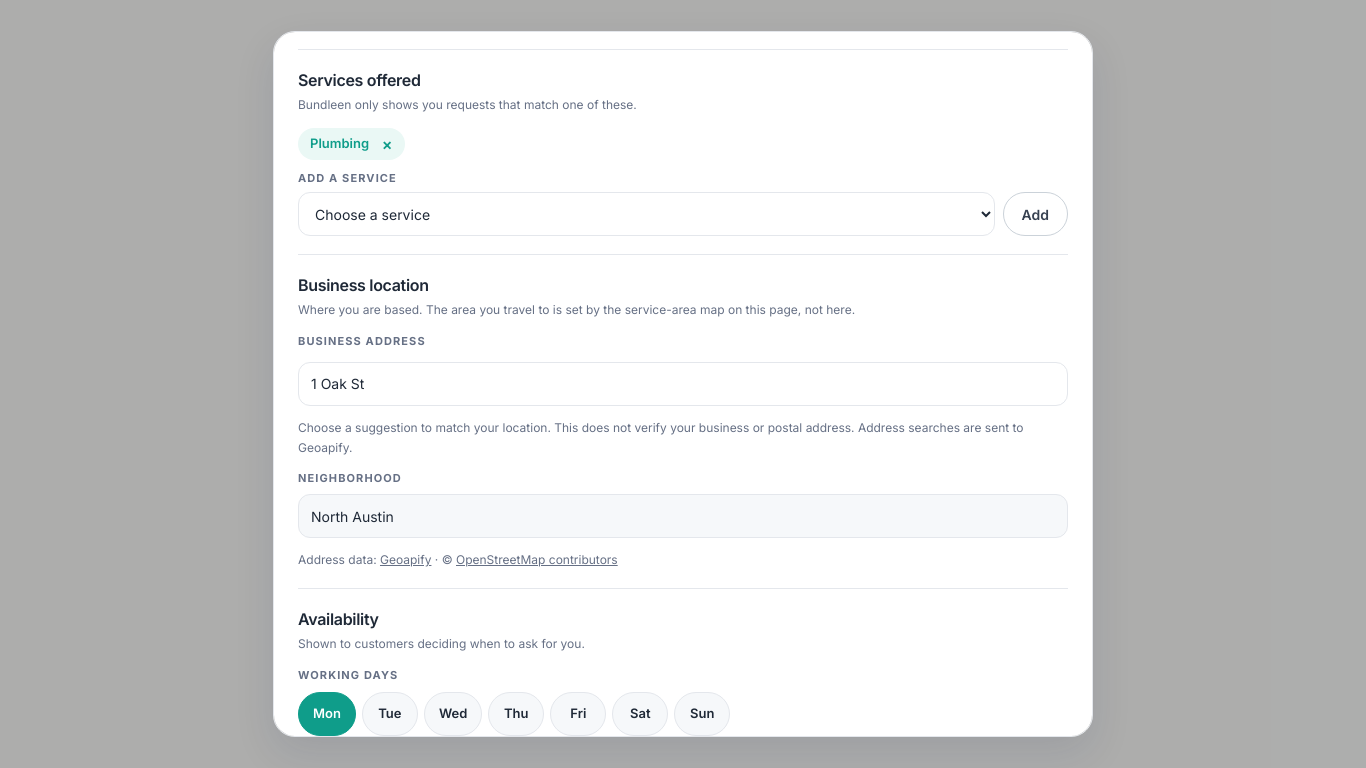
Test: provider selected location safety › ignores a late older response even when transport does not honor cancellation
(page scrolled)
Replace the text in the dropdown labelled "Business address" with "Old address". click: (683,384)
box: left=298, top=362, right=1068, bottom=406
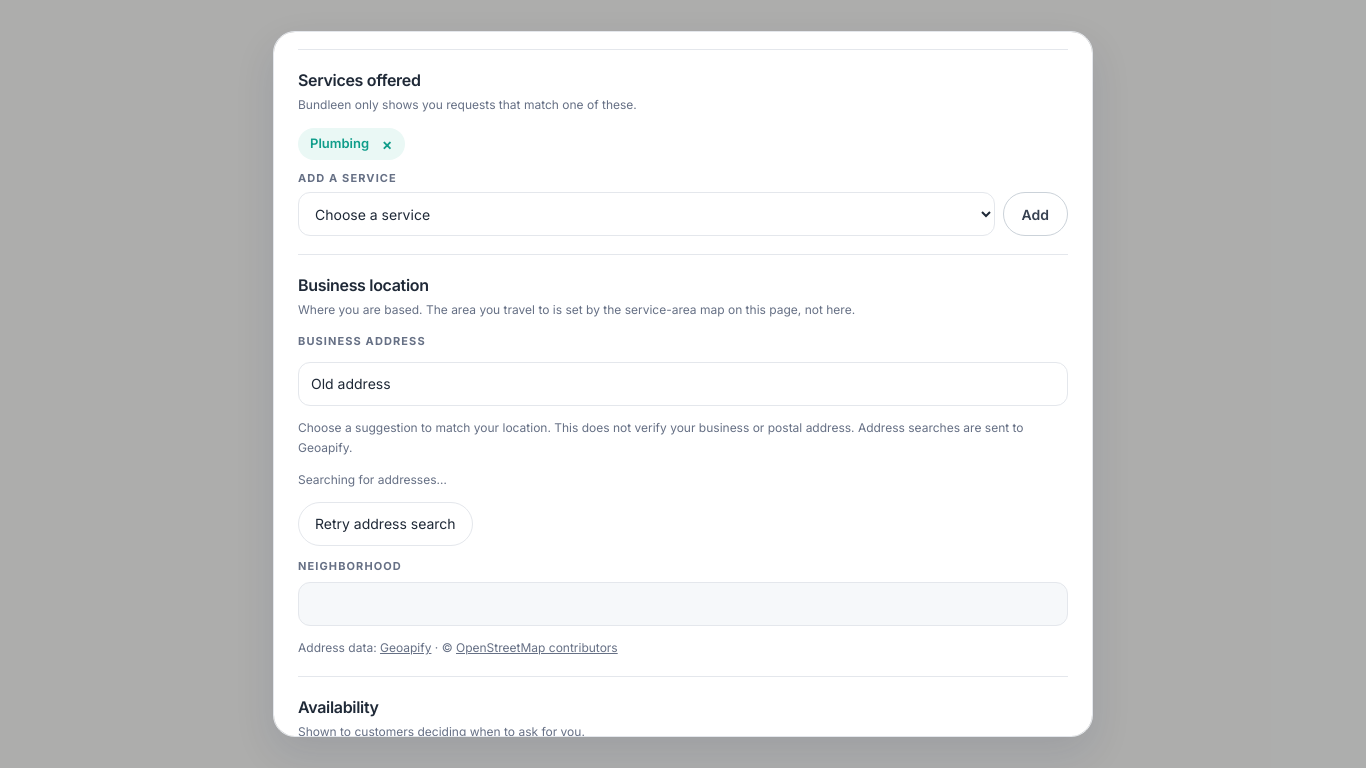
Replace the text in the dropdown labelled "Business address" with "123 Sunset". click: (683,384)
box: left=298, top=362, right=1068, bottom=406
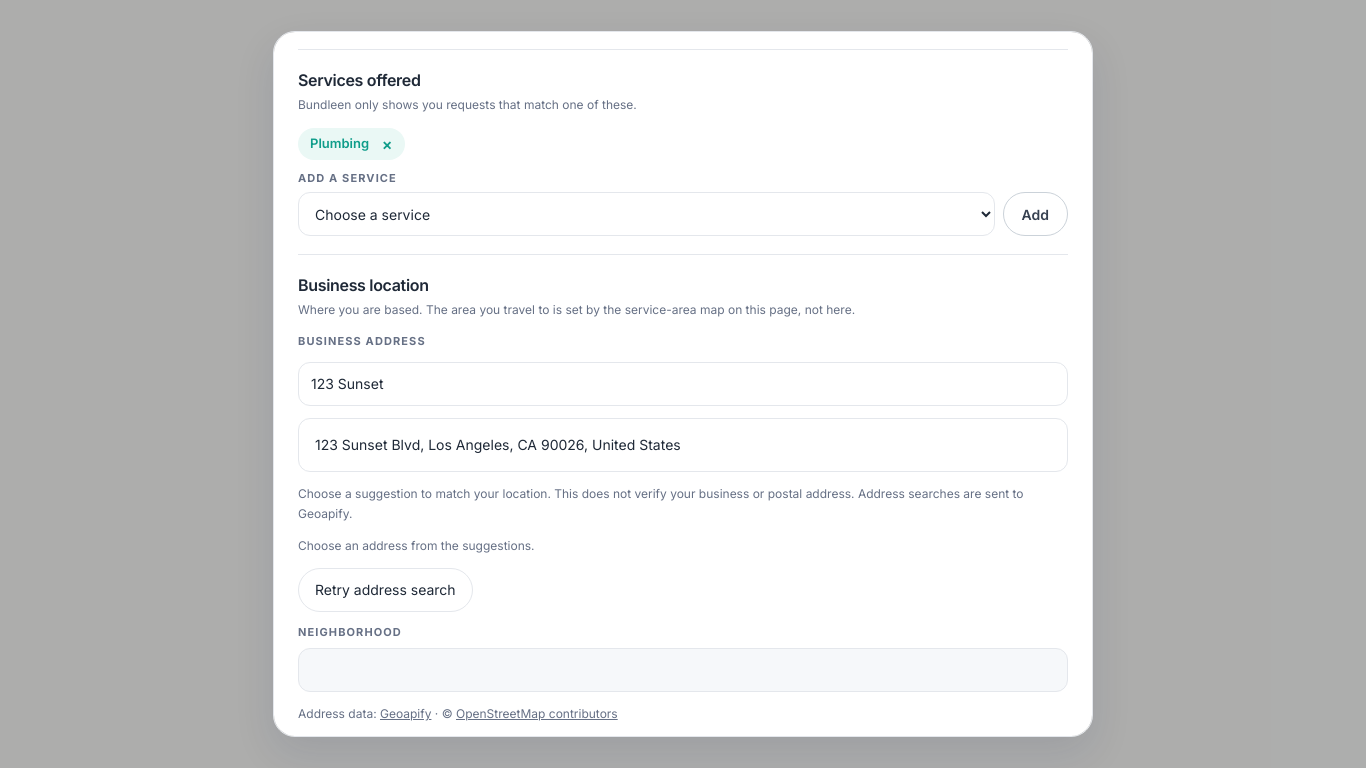
Check: the option "123 Sunset Blvd, Los Angeles, CA 90026, United States" is shown, box left=315, top=436, right=681, bottom=453
